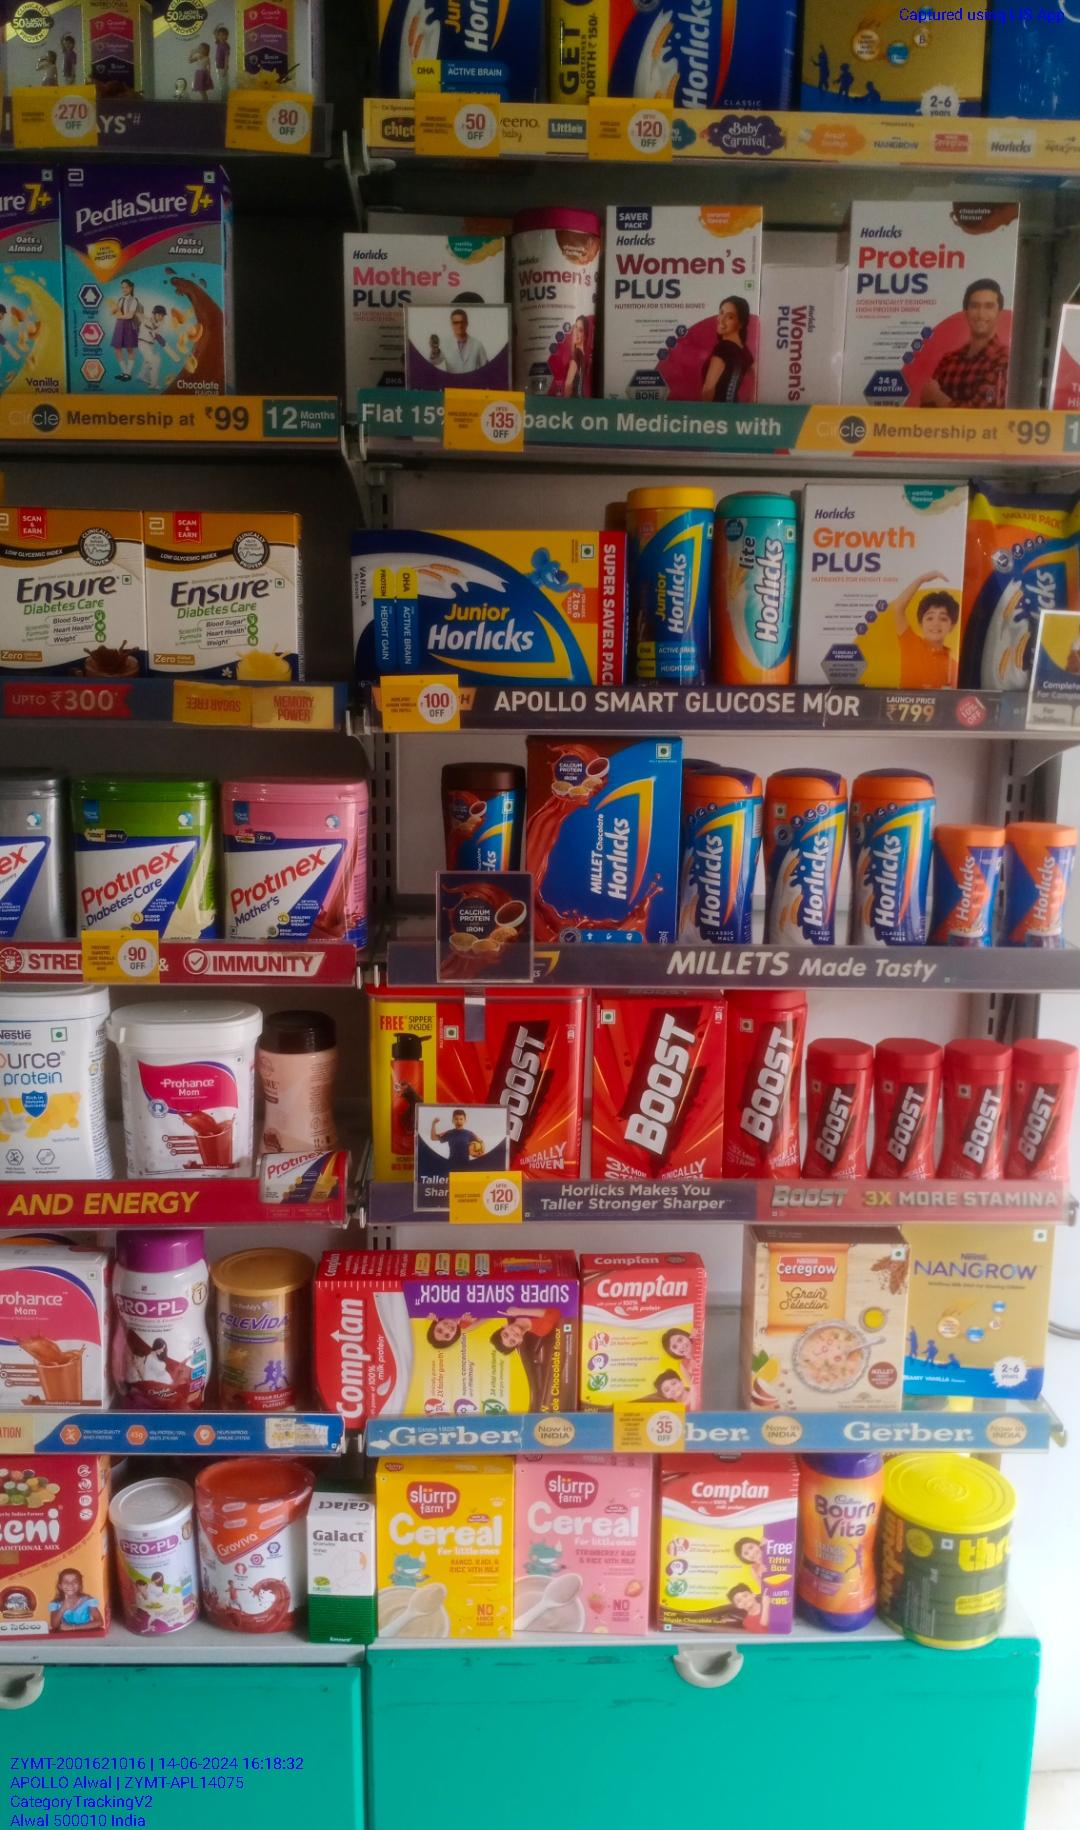BOURN_VITA_500_G_JAR: (800, 1452, 874, 1632)
COMPLAN_CHOCOLATE_200_GMS_PACK: (584, 1268, 703, 1403)
COMPLAN_CHOCOLATE_500_GMS_PACK: (662, 1474, 792, 1633)
HORLICKS_LITE_REGULAR_MALT_500_GM_JAR: (715, 493, 792, 685)
HORLICK_CLASSIC_MALT_200_G_JAR: (1003, 822, 1068, 947), (941, 826, 995, 947)
HORLICK_CLASSIC_MALT_500_G_JAR: (850, 772, 936, 945), (764, 768, 840, 943), (683, 767, 757, 945)
PEDIASURE_7_PLUS_CHOCOLATE_400_G_PACK: (64, 164, 226, 395)
